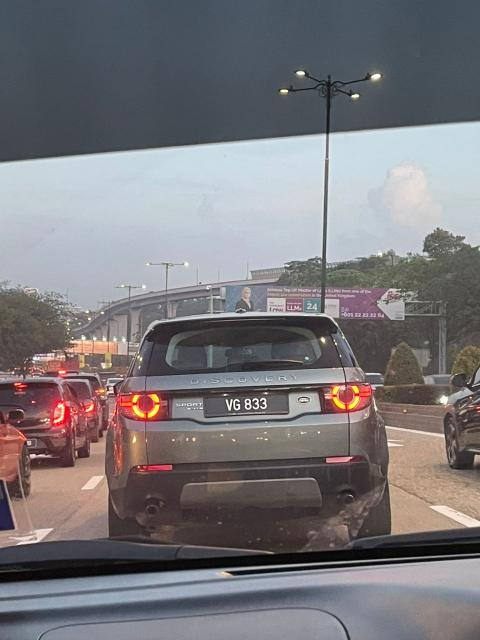License_Plate: (213, 393, 283, 419)
car: (103, 311, 399, 557)
